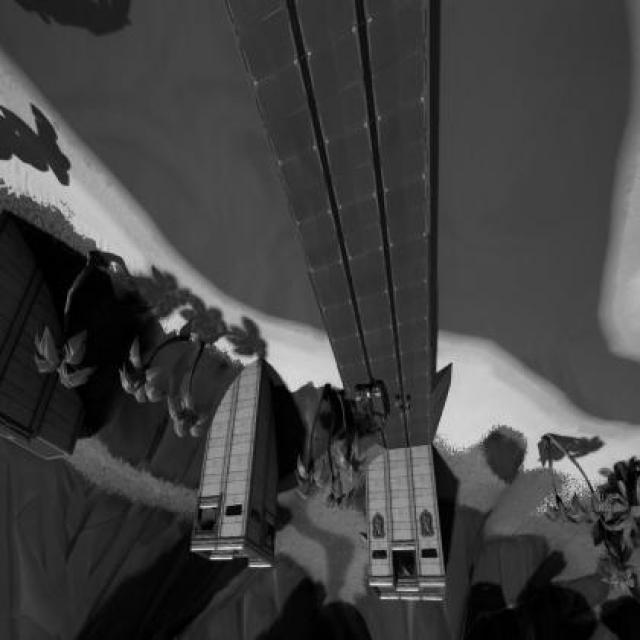tank: (354, 384, 385, 434)
